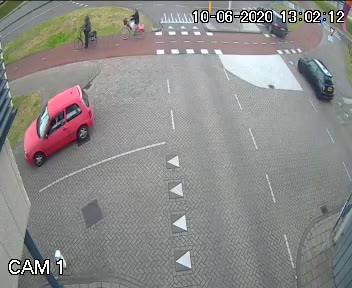car: (28, 81, 95, 173), (288, 49, 336, 109), (253, 6, 291, 41)
